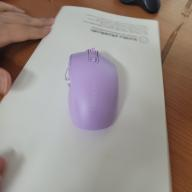mouse: (66, 47, 120, 131)
